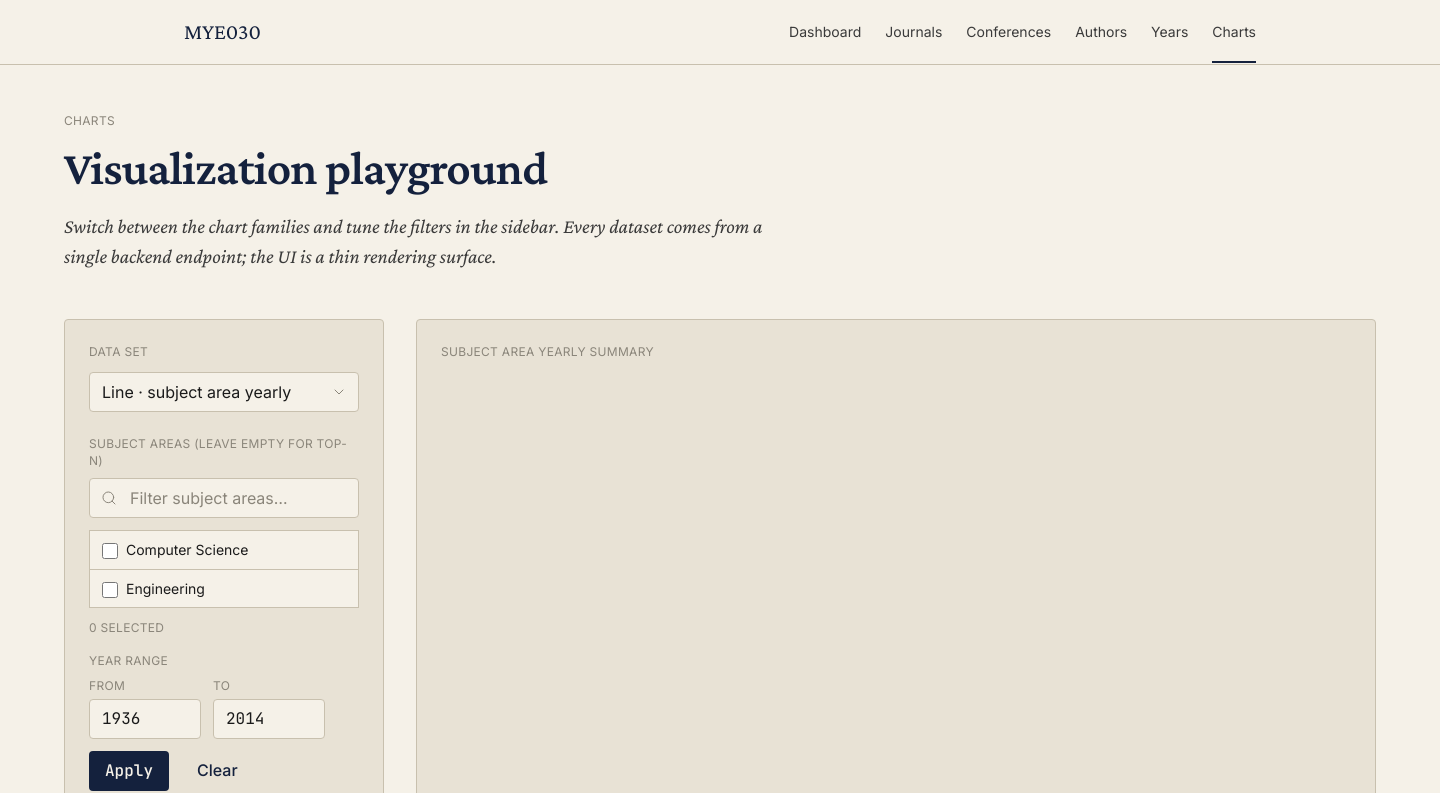
Scenario: /charts playground › prompts the user to pick venues for the comparison chart
Select "Line · venue comparison" in the dropdown named "chart type": (224, 392) left=89, top=372, right=359, bottom=412
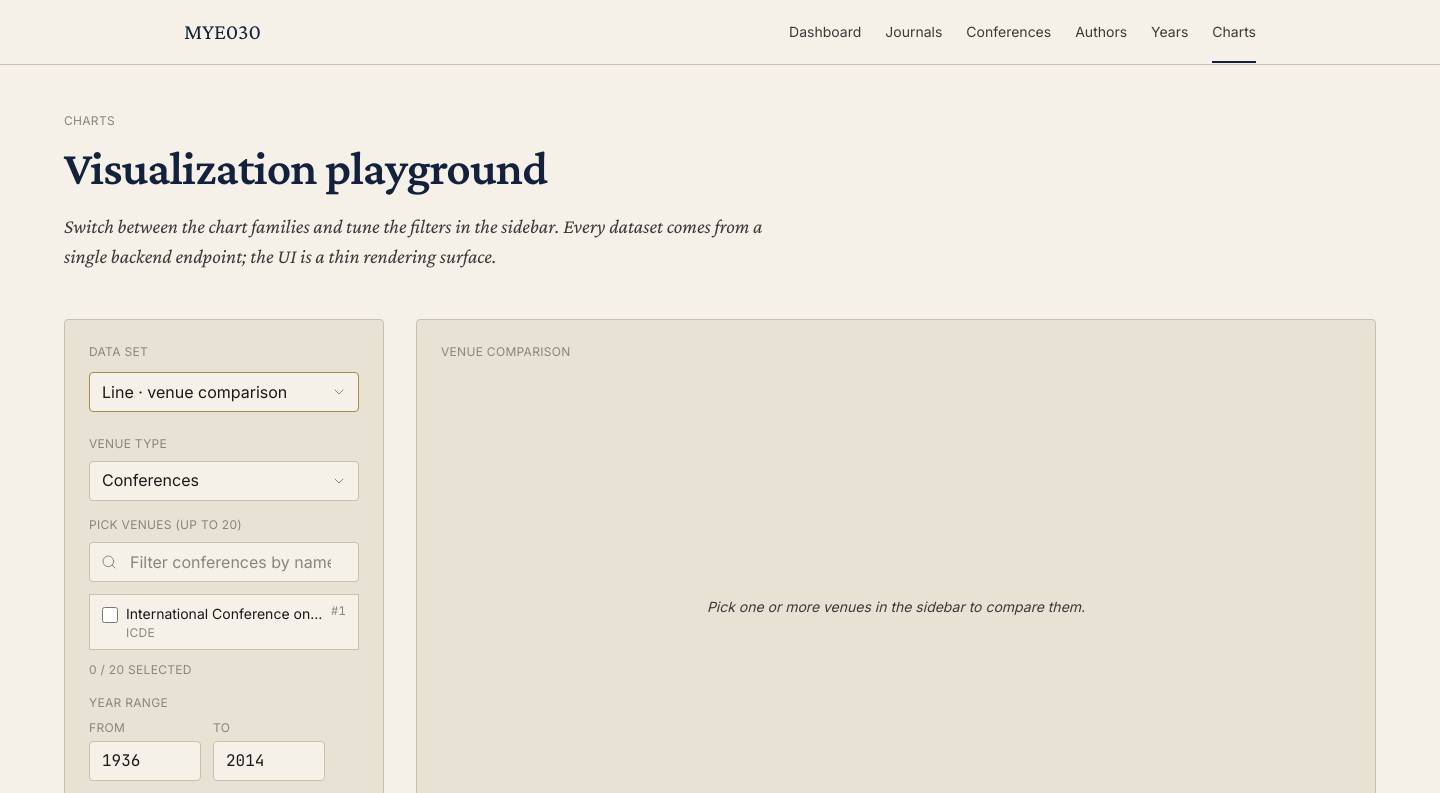
Expected: the text "Pick one or more venues in the sidebar to compare them." is shown, left=707, top=596, right=1085, bottom=617
